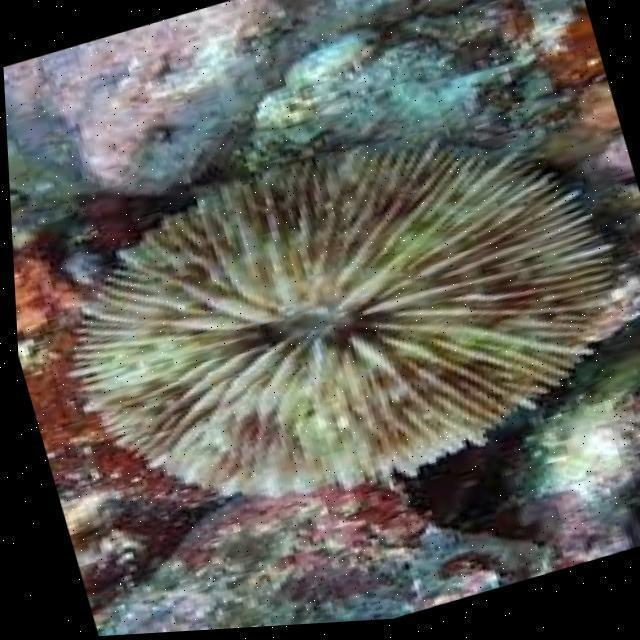Healthy Coral: (7, 76, 640, 563)
